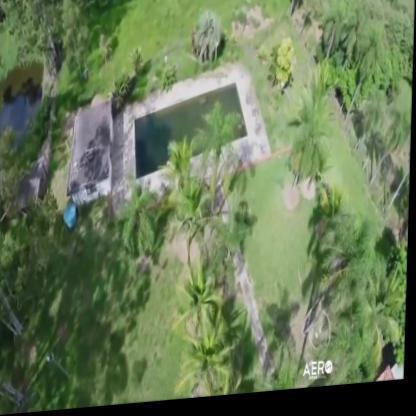agua: (149, 94, 235, 178)
